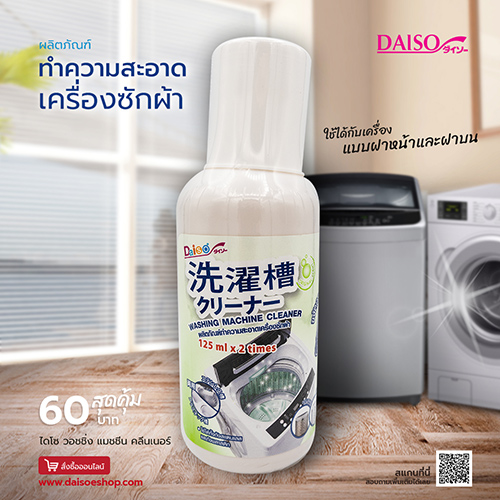Cleaning_solution: (160, 33, 329, 483)
